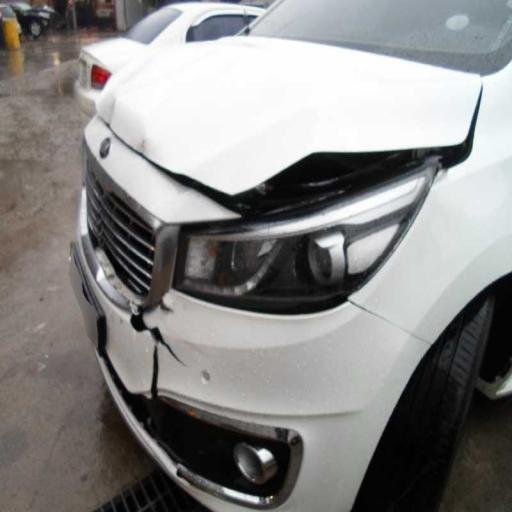broken: (90, 236, 256, 446)
dent: (85, 38, 271, 186)
